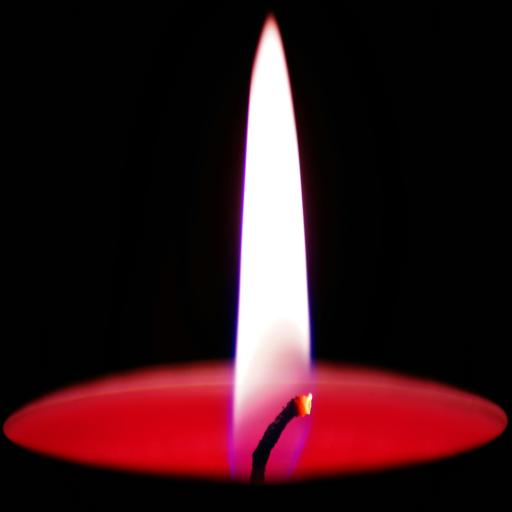fire: (242, 5, 310, 383)
